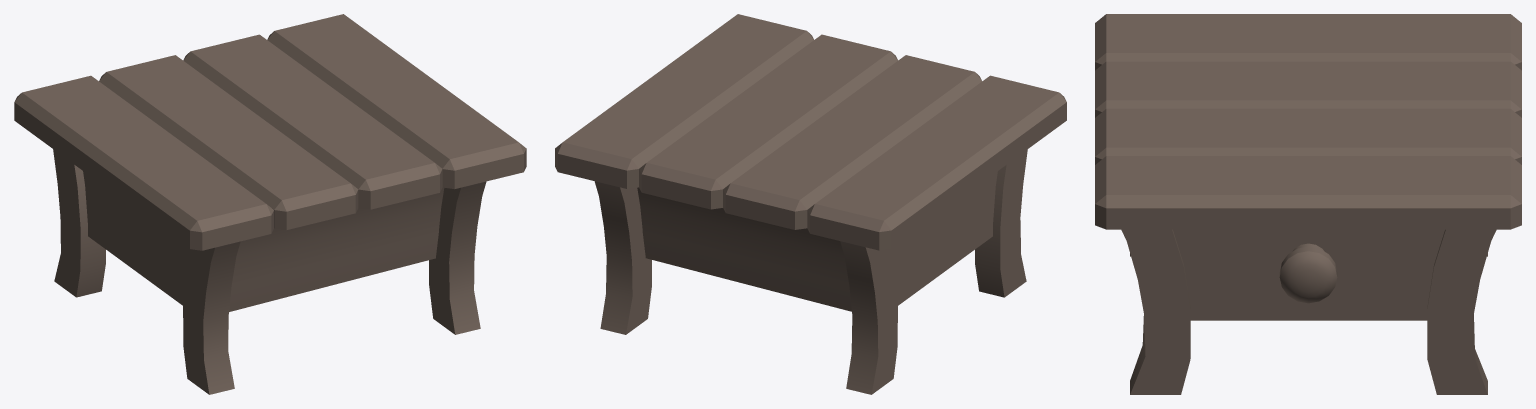
Rendered from Mesa_v2.fbx.
3 renders of one model, left to right at view 1: azimuth 30°, elevation 25°; view 2: azimuth 150°, elevation 25°; view 3: azimuth 270°, elevation 25°, orthographic. The views are drawn at different scales.
Visible parts, largest first — view 1: Tabla3, Caja, Tabla2, Tabla1, Tabla, Pata5, Pata1, Pata6; view 2: Tabla3, Caja, Tabla2, Tabla1, Tabla, Pata6, Pata2, Pata5; view 3: Tabla, Tabla3, Tabla2, Tabla1, Cajon, Caja, Pata1, Pata2, Manija.
Part boxes in pixels (left/top/right/bottom): Tabla3: left=14, top=75, right=273, bottom=250; Caja: left=83, top=171, right=444, bottom=311; Tabla2: left=99, top=55, right=358, bottom=230; Tabla1: left=183, top=34, right=442, bottom=209; Tabla: left=267, top=14, right=526, bottom=189; Pata5: left=183, top=241, right=240, bottom=394; Pata1: left=429, top=181, right=486, bottom=334; Pata6: left=53, top=149, right=105, bottom=297; Tabla3: left=807, top=75, right=1066, bottom=250; Caja: left=637, top=171, right=997, bottom=311; Tabla2: left=723, top=55, right=981, bottom=229; Tabla1: left=639, top=34, right=897, bottom=209; Tabla: left=555, top=14, right=813, bottom=188; Pata6: left=840, top=241, right=897, bottom=394; Pata2: left=594, top=181, right=651, bottom=334; Pata5: left=975, top=149, right=1027, bottom=297; Tabla: left=1095, top=156, right=1521, bottom=229; Tabla3: left=1095, top=14, right=1521, bottom=70; Tabla2: left=1095, top=61, right=1521, bottom=117; Tabla1: left=1095, top=108, right=1521, bottom=164; Cajon: left=1201, top=229, right=1415, bottom=294; Caja: left=1173, top=229, right=1444, bottom=320; Pata1: left=1121, top=229, right=1190, bottom=394; Pata2: left=1427, top=229, right=1496, bottom=394; Manija: left=1279, top=243, right=1337, bottom=303.
Size of the model in its own units: 2.1 by 1.08 by 1.94.
